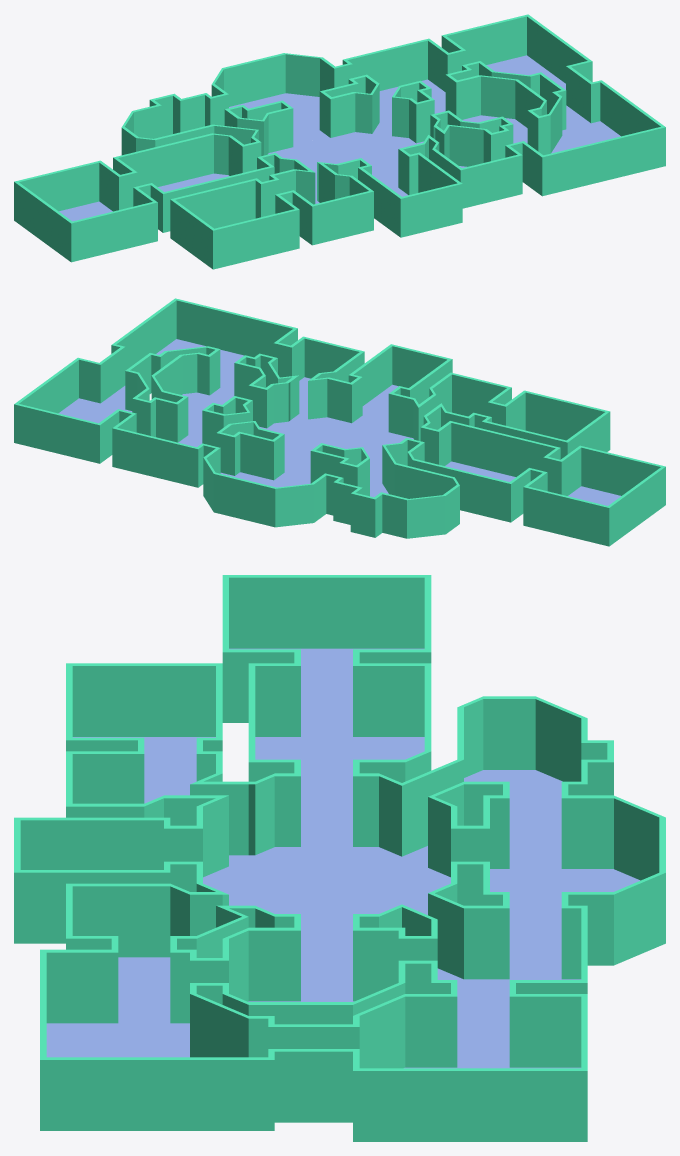
Rendered from map_dummy_v01.fbx.
3 renders of one model, top to bottom at view 1: azimuth 30°, elevation 25°; view 2: azimuth 150°, elevation 25°; view 3: azimuth 270°, elevation 25°, orthographic. The views are drawn at different scales.
Visible parts, largest first — view 1: wall, plan, pPlane13, pPlane14; view 2: wall, plan, pPlane13, pPlane14; view 3: wall, plan, pPlane13, pPlane14.
Boxes of the visible parts, x1,y1,x2,y2 form: wall: (14, 14, 665, 269); plan: (59, 55, 620, 221); pPlane13: (269, 169, 373, 245); pPlane14: (315, 106, 588, 203); wall: (14, 298, 665, 546); plan: (58, 339, 620, 505); pPlane13: (429, 372, 511, 426); pPlane14: (102, 386, 388, 496); wall: (14, 575, 665, 1141); plan: (46, 648, 640, 1068); pPlane13: (66, 751, 222, 817); pPlane14: (118, 723, 561, 1064).
Bounding box in the file's own units: 9403 × 627 × 5224.
